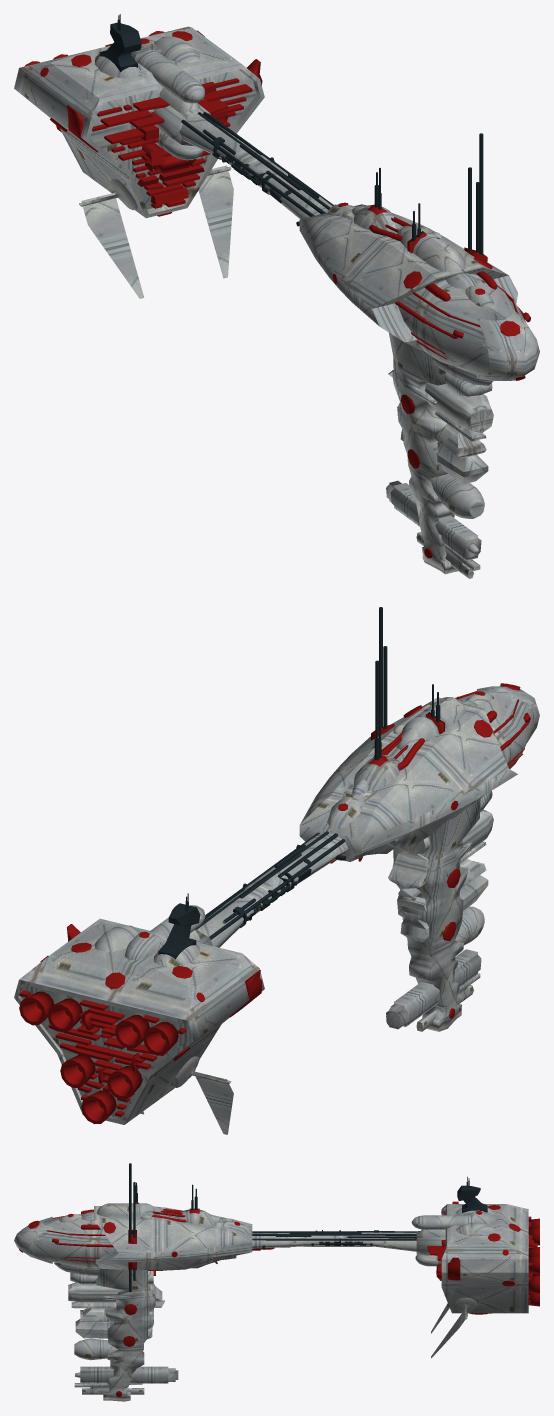
The model's file is hotel.obj.
3 renders of one model, top to bottom at view 1: azimuth 30°, elevation 25°; view 2: azimuth 150°, elevation 25°; view 3: azimuth 270°, elevation 25°, orthographic. The views are drawn at different scales.
Visible parts, largest first — view 1: MainHull_Mesh.003, EngineSection_Mesh.013, Modules_Mesh, EngineSection_Details_Mesh.015, MainHull_Details_Mesh.001, Neck_Details_Mesh.004, Neck_Mesh.005, Antennas_Mesh.002, ShieldGenerator_Mesh.014; view 2: MainHull_Mesh.003, EngineSection_Mesh.013, Modules_Mesh, EngineSection_Details_Mesh.015, Neck_Details_Mesh.004, Neck_Mesh.005, MainHull_Details_Mesh.001, Antennas_Mesh.002, ShieldGenerator_Mesh.014, Engine1_Mesh.012, Engine6_Mesh.007, Engine3_Mesh.010 (+4 smaller); view 3: MainHull_Mesh.003, EngineSection_Mesh.013, Modules_Mesh, MainHull_Details_Mesh.001, Neck_Details_Mesh.004, Neck_Mesh.005, EngineSection_Details_Mesh.015, Antennas_Mesh.002, ShieldGenerator_Mesh.014.
Boxes of the visible parts, left/top/right/bottom form: MainHull_Mesh.003: left=299, top=204, right=539, bottom=574; EngineSection_Mesh.013: left=14, top=26, right=264, bottom=298; Modules_Mesh: left=386, top=370, right=493, bottom=578; EngineSection_Details_Mesh.015: left=40, top=30, right=262, bottom=216; MainHull_Details_Mesh.001: left=332, top=202, right=530, bottom=558; Neck_Details_Mesh.004: left=181, top=112, right=333, bottom=226; Neck_Mesh.005: left=179, top=113, right=332, bottom=219; Antennas_Mesh.002: left=374, top=133, right=483, bottom=255; ShieldGenerator_Mesh.014: left=99, top=14, right=141, bottom=72; MainHull_Mesh.003: left=299, top=686, right=539, bottom=1031; EngineSection_Mesh.013: left=14, top=905, right=264, bottom=1134; Modules_Mesh: left=386, top=791, right=493, bottom=1031; EngineSection_Details_Mesh.015: left=19, top=924, right=262, bottom=1116; Neck_Details_Mesh.004: left=195, top=831, right=346, bottom=939; Neck_Mesh.005: left=197, top=833, right=348, bottom=947; MainHull_Details_Mesh.001: left=330, top=683, right=530, bottom=1018; Antennas_Mesh.002: left=374, top=607, right=440, bottom=760; ShieldGenerator_Mesh.014: left=158, top=893, right=200, bottom=959; Engine1_Mesh.012: left=143, top=1022, right=178, bottom=1055; Engine6_Mesh.007: left=81, top=1090, right=116, bottom=1124; Engine3_Mesh.010: left=47, top=998, right=82, bottom=1032; MainHull_Mesh.003: left=14, top=1203, right=252, bottom=1401; EngineSection_Mesh.013: left=411, top=1204, right=528, bottom=1358; Modules_Mesh: left=68, top=1271, right=178, bottom=1394; MainHull_Details_Mesh.001: left=19, top=1202, right=274, bottom=1396; Neck_Details_Mesh.004: left=252, top=1230, right=416, bottom=1249; Neck_Mesh.005: left=252, top=1232, right=416, bottom=1251; EngineSection_Details_Mesh.015: left=427, top=1201, right=537, bottom=1314; Antennas_Mesh.002: left=129, top=1163, right=197, bottom=1291; ShieldGenerator_Mesh.014: left=457, top=1176, right=487, bottom=1212.
Bounding box in the file's own units: 77.06 × 159 × 304.
Materials: 3 (1 with a texture image).
